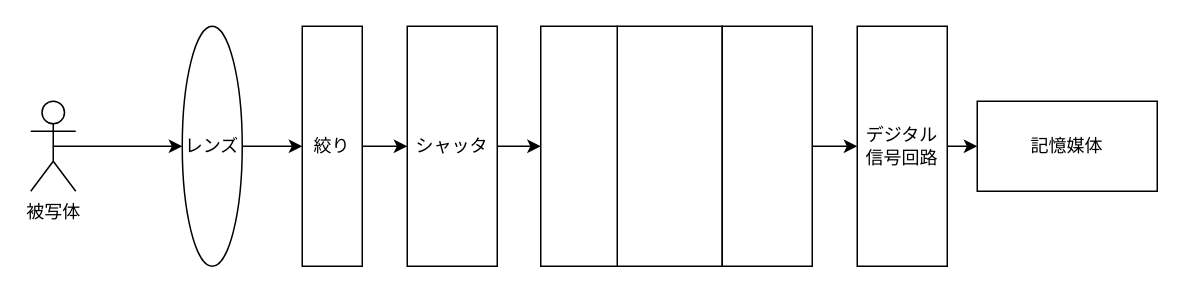
This 1184x293 diagram has some shape labels left out. The shapes that lost their labels are listed below. From the top down, each one's box as (x1, y1, x2, y2) in pixels, then its label:
(539, 25, 617, 266): カラーフィルタ
(616, 25, 722, 266): 撮影素子
(721, 25, 812, 266): アナログ信号回路
